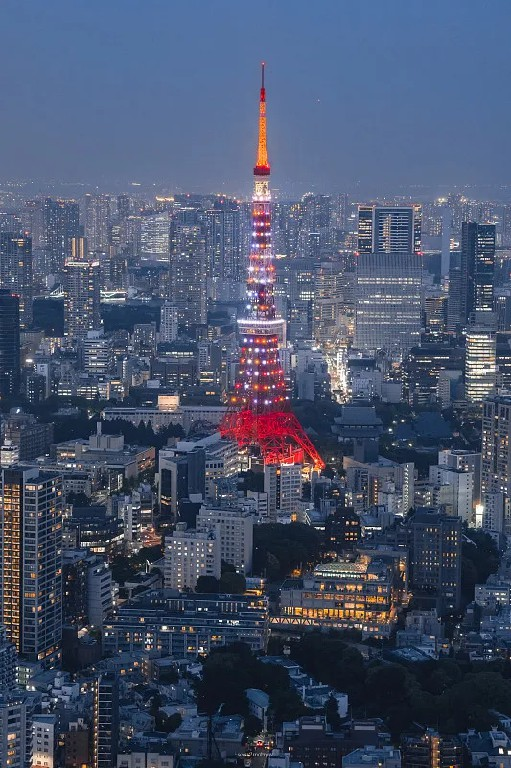Tokyo: (217, 63, 326, 472)
